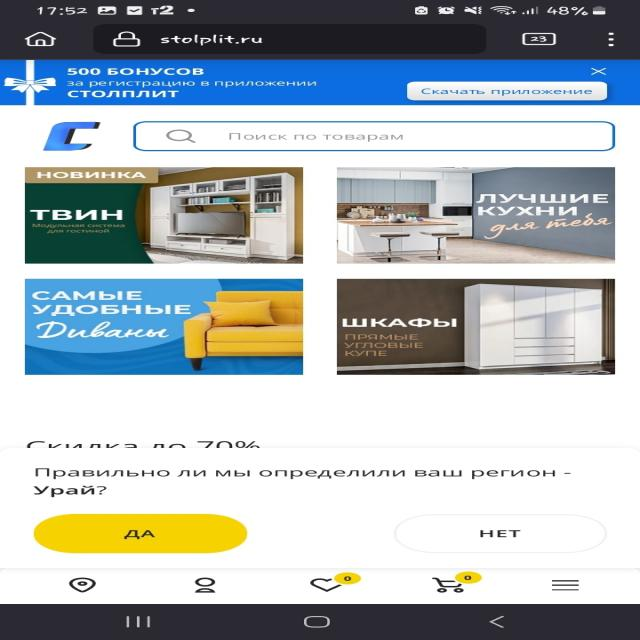button: (33, 514, 249, 554), (391, 514, 607, 552), (409, 81, 604, 102), (582, 65, 614, 78)
site: (0, 448, 640, 566), (0, 59, 640, 105)
